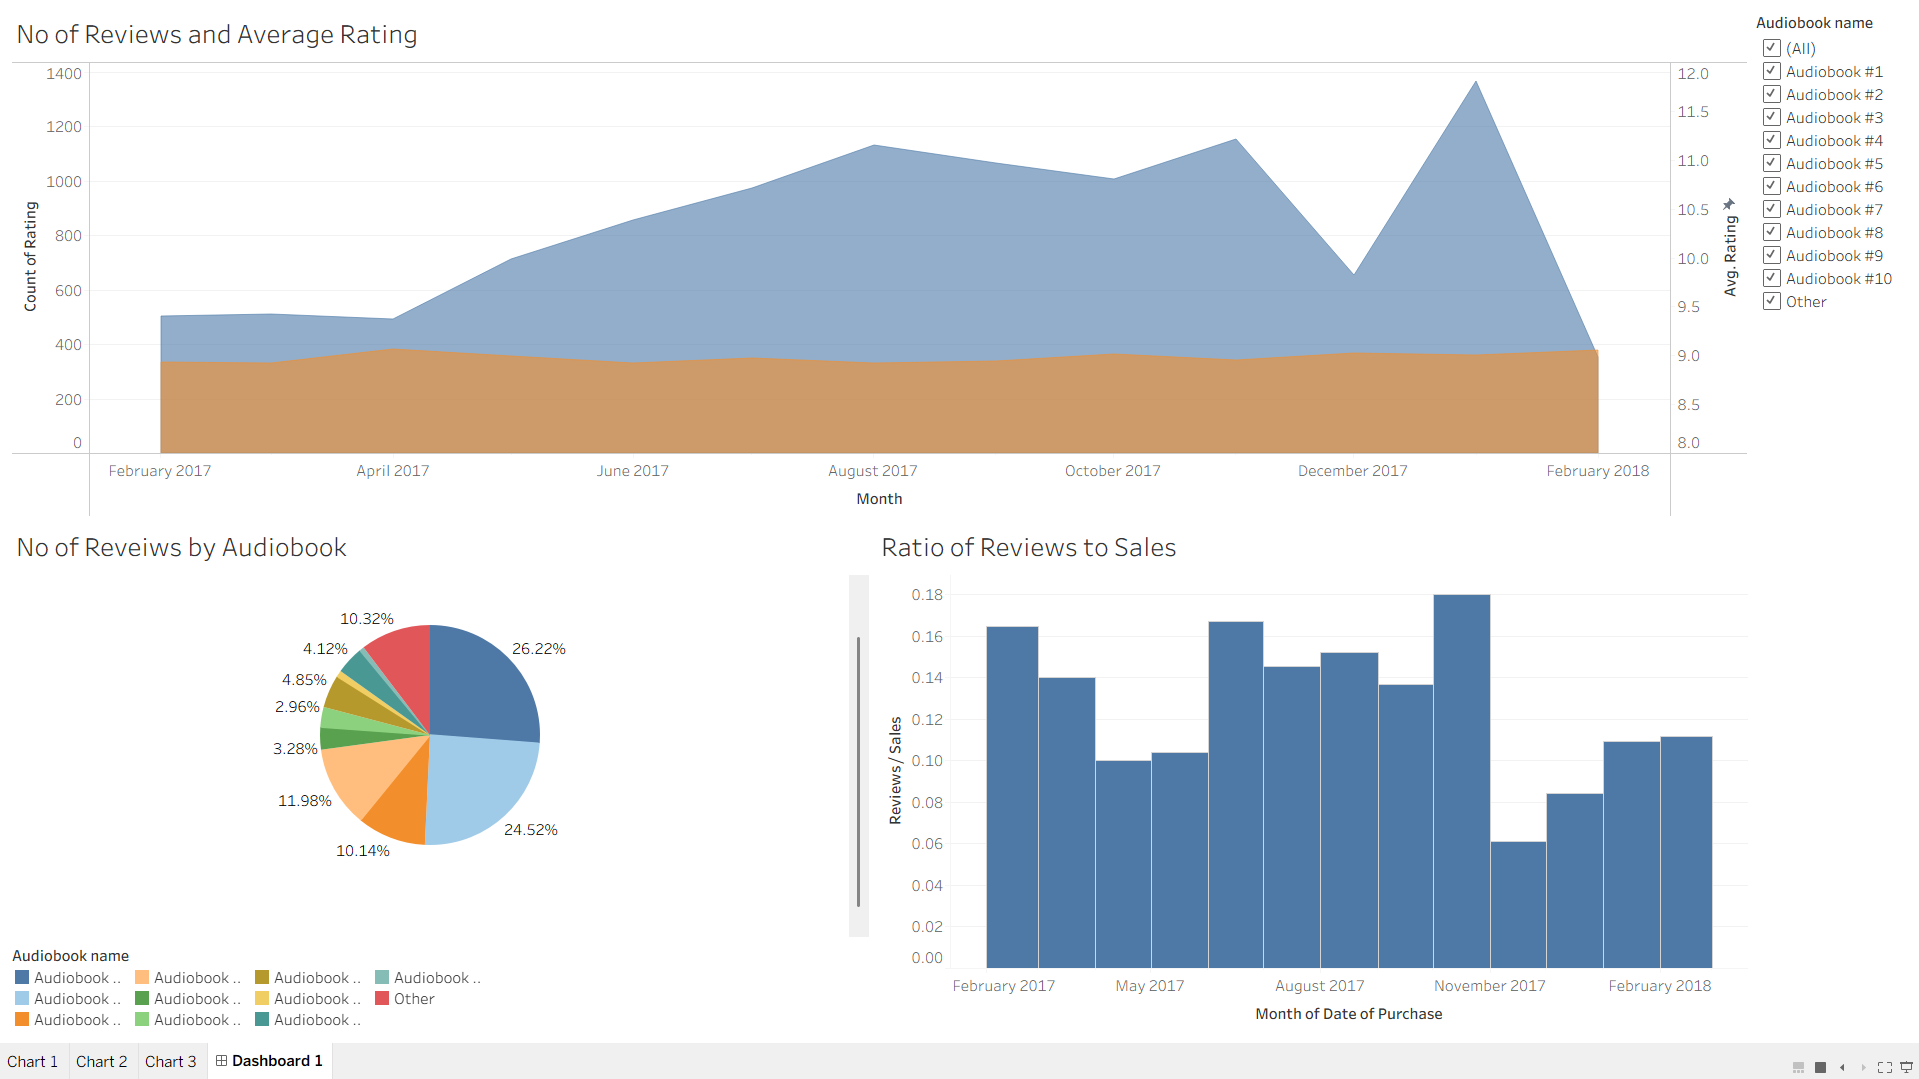

The page's visual inventory and layout, read from the dashboard file:
{"tool":"tableau","page":{"name":"Dashboard 1","canvas":[1000,1000],"units":"permille","ordinal":0},"visuals":[{"type":"worksheet","title":"Chart 1","mark":"Area","rows":["Rating","Rating"],"cols":["Date of Purchase"],"box":[6.9,10,848.4,490]},{"type":"filter","title":"Chart 2","param":"[federated.0a1n9gi0bnqcyz1c89bks0vvctlw].[none:Audiobook name:nk]","box":[855.3,10,137.8,390]},{"type":"worksheet","title":"Chart 2","mark":"Pie","box":[6.9,500,421.1,400.8]},{"type":"worksheet","title":"Chart 3","mark":"Bar","rows":["Calculation_1144333192945667"],"cols":["Date of Purchase"],"box":[427.9,500,427.4,490]},{"type":"legend","title":"Chart 2","param":"[federated.0a1n9gi0bnqcyz1c89bks0vvctlw].[none:Audiobook name:nk]","box":[6.9,900.8,421.1,89.2]}]}

Visuals, with their boxes on the dashboard's canvas, which has no fixed pixel size, in thousandths of its width and height (x1, y1, x2, y2). These are canvas units, not pixel positions in the 1919x1079 screenshot, which may show the page scaled, cropped or inside an application window:
"Chart 1" worksheet (Area marks): x1=7, y1=10, x2=855, y2=500
"Chart 2" filter: x1=855, y1=10, x2=993, y2=400
"Chart 2" worksheet (Pie marks): x1=7, y1=500, x2=428, y2=901
"Chart 3" worksheet (Bar marks): x1=428, y1=500, x2=855, y2=990
"Chart 2" legend: x1=7, y1=901, x2=428, y2=990
